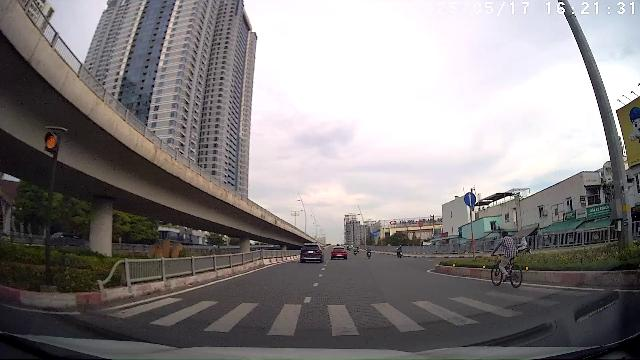301a-cac-xe-chi-duoc-di-thang: (464, 192, 476, 206)
